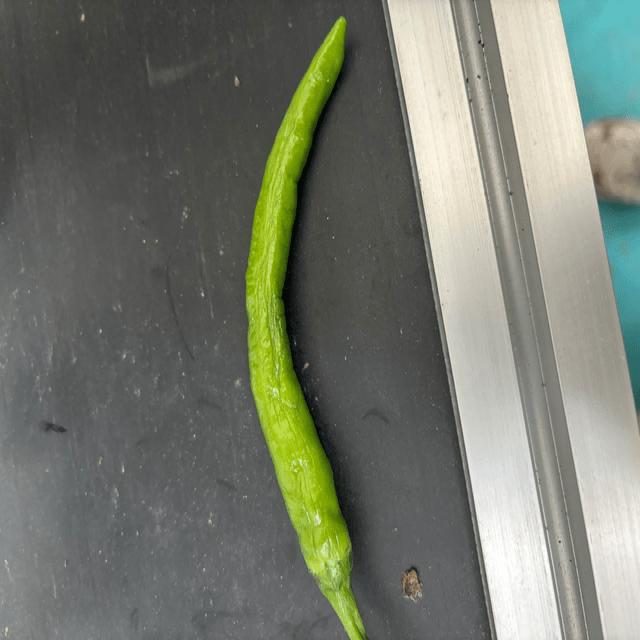chili: (242, 9, 358, 609)
